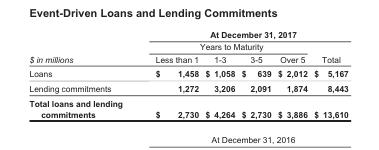table: (28, 29, 347, 118)
table column: (28, 29, 138, 118), (138, 29, 201, 118), (273, 29, 310, 118), (310, 29, 347, 118), (201, 29, 237, 118), (237, 29, 273, 118)
table column header: (28, 29, 347, 65)
table row: (28, 95, 347, 118), (28, 65, 347, 80), (28, 80, 347, 95), (28, 52, 347, 65), (28, 40, 347, 52), (28, 29, 347, 40)
table spanning cell: (28, 29, 138, 65), (138, 29, 347, 40), (138, 40, 310, 52), (310, 40, 347, 65)
